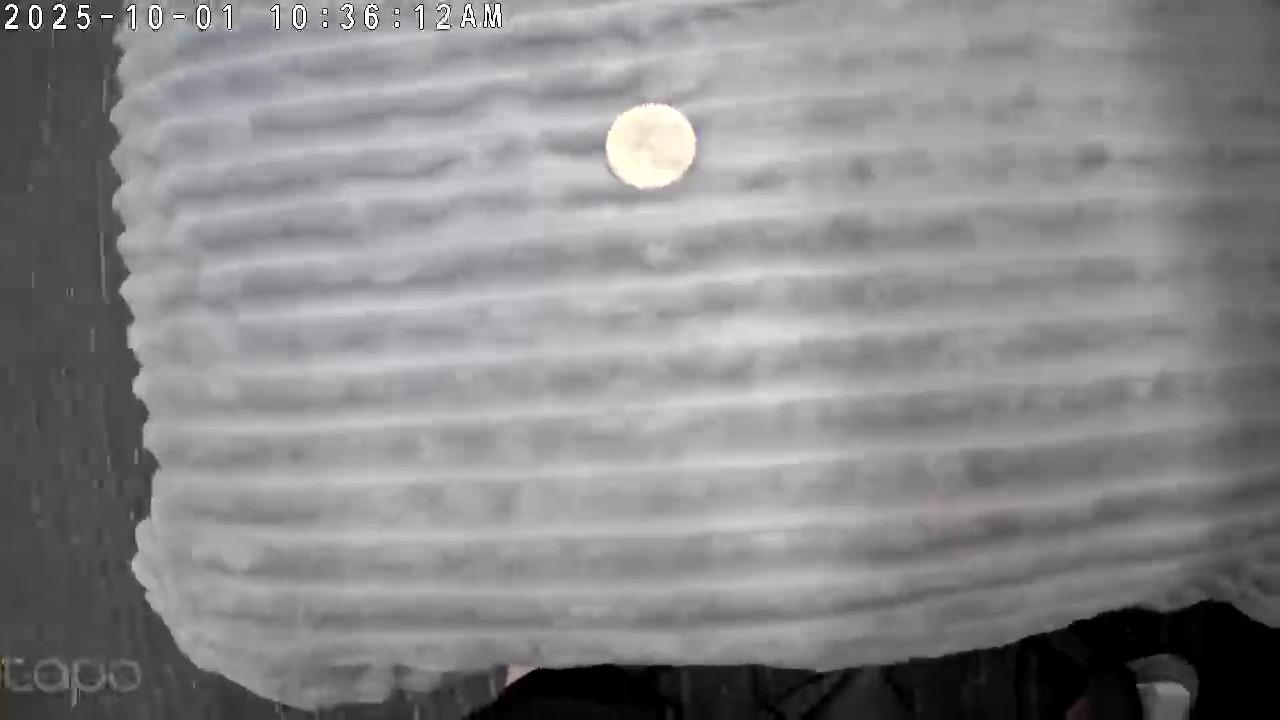coin: (602, 100, 699, 194)
